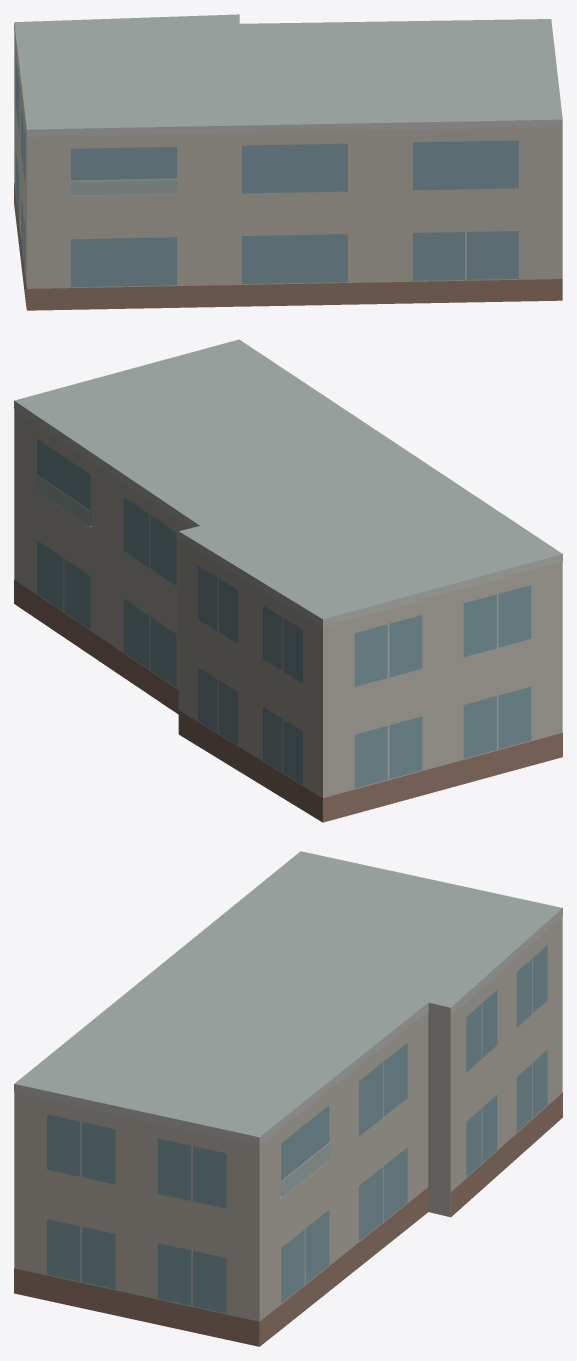
The model's file is survey-upis-32882565.glb.
The picture shows the model from 3 angles, top to bottom: view 1: azimuth 30°, elevation 25°; view 2: azimuth 150°, elevation 25°; view 3: azimuth 270°, elevation 25°; orthographic projection. The views are drawn at different scales.
Visible parts, largest first — view 1: survey-upis-32882565.tmp; view 2: survey-upis-32882565.tmp; view 3: survey-upis-32882565.tmp.
Boxes of the visible parts, <box> form: survey-upis-32882565.tmp: <box>14,14,562,310</box>; survey-upis-32882565.tmp: <box>14,339,562,822</box>; survey-upis-32882565.tmp: <box>14,851,562,1346</box>.
Bounding box in the file's own units: 17.88 × 6.1 × 14.49.
